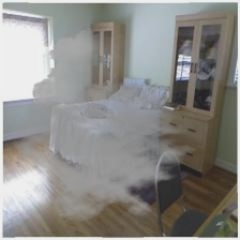smoke: (64, 91, 169, 207)
